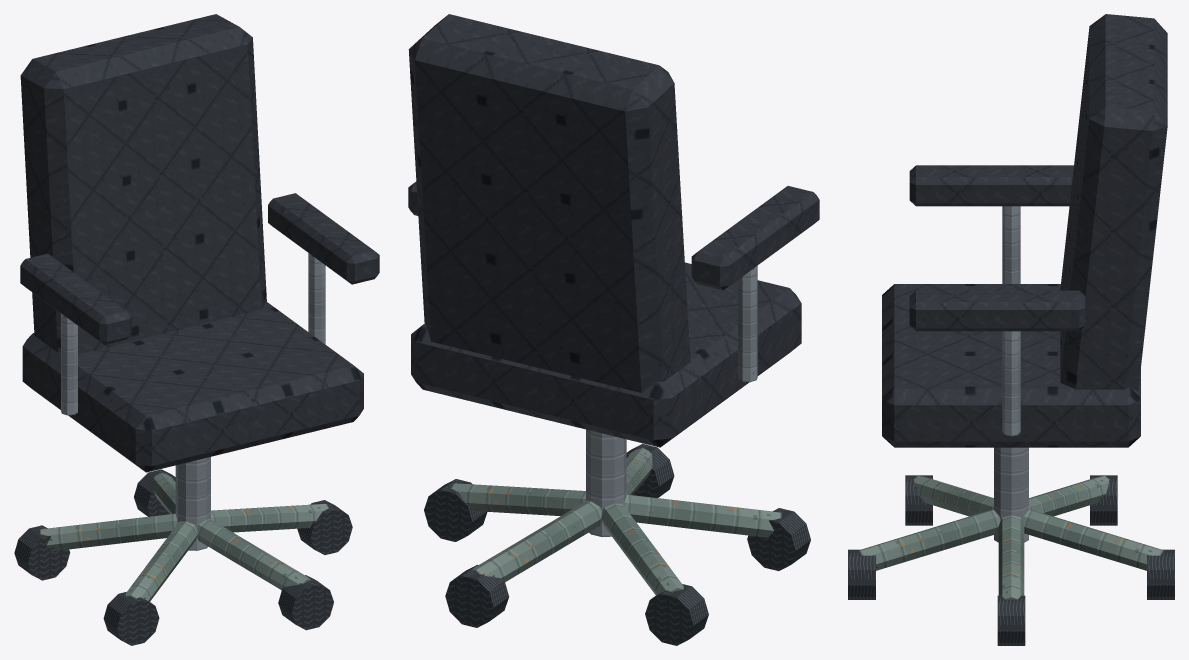
The model's file is MD_112_ExecutiveChair.fbx.
3 renders of one model, left to right at view 1: azimuth 30°, elevation 25°; view 2: azimuth 150°, elevation 25°; view 3: azimuth 270°, elevation 25°, orthographic. The views are drawn at different scales.
Visible parts, largest first — view 1: MD_112_ExecutiveChair_backrest, MD_112_ExecutiveChair_padded_seat, MD_112_ExecutiveChair_arm_pad.001, MD_112_ExecutiveChair_arm_pad, MD_112_ExecutiveChair_five_star_leg.002, MD_112_ExecutiveChair_five_star_leg.004, MD_112_ExecutiveChair_five_star_leg, MD_112_ExecutiveChair_chair_lift, MD_112_ExecutiveChair_five_star_leg.003, MD_112_ExecutiveChair_caster.003, MD_112_ExecutiveChair_caster.004, MD_112_ExecutiveChair_caster.002 (+5 smaller); view 2: MD_112_ExecutiveChair_backrest, MD_112_ExecutiveChair_padded_seat, MD_112_ExecutiveChair_arm_pad, MD_112_ExecutiveChair_five_star_leg.003, MD_112_ExecutiveChair_five_star_leg.001, MD_112_ExecutiveChair_five_star_leg, MD_112_ExecutiveChair_chair_lift, MD_112_ExecutiveChair_five_star_leg.002, MD_112_ExecutiveChair_caster.002, MD_112_ExecutiveChair_caster.001, MD_112_ExecutiveChair_caster.003, MD_112_ExecutiveChair_caster (+3 smaller); view 3: MD_112_ExecutiveChair_backrest, MD_112_ExecutiveChair_padded_seat, MD_112_ExecutiveChair_arm_pad.001, MD_112_ExecutiveChair_arm_pad, MD_112_ExecutiveChair_five_star_leg.001, MD_112_ExecutiveChair_five_star_leg.004, MD_112_ExecutiveChair_chair_lift, MD_112_ExecutiveChair_five_star_leg, MD_112_ExecutiveChair_arm_support.001, MD_112_ExecutiveChair_five_star_leg.002, MD_112_ExecutiveChair_five_star_leg.003, MD_112_ExecutiveChair_arm_support (+5 smaller).
Part boxes in pixels (box(x1,y1,x2,y2)): MD_112_ExecutiveChair_backrest: box(20, 14, 266, 354); MD_112_ExecutiveChair_padded_seat: box(22, 302, 363, 472); MD_112_ExecutiveChair_arm_pad.001: box(268, 193, 379, 284); MD_112_ExecutiveChair_arm_pad: box(20, 253, 131, 344); MD_112_ExecutiveChair_five_star_leg.002: box(40, 513, 177, 551); MD_112_ExecutiveChair_five_star_leg.004: box(197, 519, 310, 590); MD_112_ExecutiveChair_five_star_leg: box(211, 504, 328, 532); MD_112_ExecutiveChair_chair_lift: box(175, 457, 210, 550); MD_112_ExecutiveChair_five_star_leg.003: box(125, 521, 197, 601); MD_112_ExecutiveChair_caster.003: box(103, 592, 159, 645); MD_112_ExecutiveChair_caster.004: box(278, 575, 333, 630); MD_112_ExecutiveChair_caster.002: box(14, 525, 70, 580); MD_112_ExecutiveChair_backrest: box(408, 14, 690, 392); MD_112_ExecutiveChair_padded_seat: box(411, 262, 801, 447); MD_112_ExecutiveChair_arm_pad: box(691, 186, 819, 290); MD_112_ExecutiveChair_five_star_leg.003: box(624, 494, 781, 537); MD_112_ExecutiveChair_five_star_leg.001: box(471, 500, 601, 582); MD_112_ExecutiveChair_five_star_leg: box(451, 483, 585, 515); MD_112_ExecutiveChair_chair_lift: box(586, 429, 626, 536); MD_112_ExecutiveChair_five_star_leg.002: box(601, 503, 683, 594); MD_112_ExecutiveChair_caster.002: box(645, 584, 708, 645); MD_112_ExecutiveChair_caster.001: box(445, 564, 509, 627); MD_112_ExecutiveChair_caster.003: box(747, 508, 810, 570); MD_112_ExecutiveChair_caster: box(424, 479, 487, 541); MD_112_ExecutiveChair_backrest: box(1060, 14, 1167, 391); MD_112_ExecutiveChair_padded_seat: box(882, 284, 1140, 447); MD_112_ExecutiveChair_arm_pad.001: box(909, 290, 1085, 331); MD_112_ExecutiveChair_arm_pad: box(909, 165, 1073, 206); MD_112_ExecutiveChair_five_star_leg.001: box(1022, 509, 1164, 570); MD_112_ExecutiveChair_five_star_leg.004: box(858, 509, 1000, 570); MD_112_ExecutiveChair_chair_lift: box(994, 447, 1028, 542); MD_112_ExecutiveChair_five_star_leg: box(998, 515, 1024, 599); MD_112_ExecutiveChair_arm_support.001: box(1002, 331, 1020, 436); MD_112_ExecutiveChair_five_star_leg.002: box(1029, 475, 1109, 516); MD_112_ExecutiveChair_five_star_leg.003: box(913, 475, 993, 516); MD_112_ExecutiveChair_arm_support: box(1002, 206, 1020, 283).
Bounding box in the file's own units: 0.7575 × 1.23 × 0.7067.
4 materials, 4 textured.
